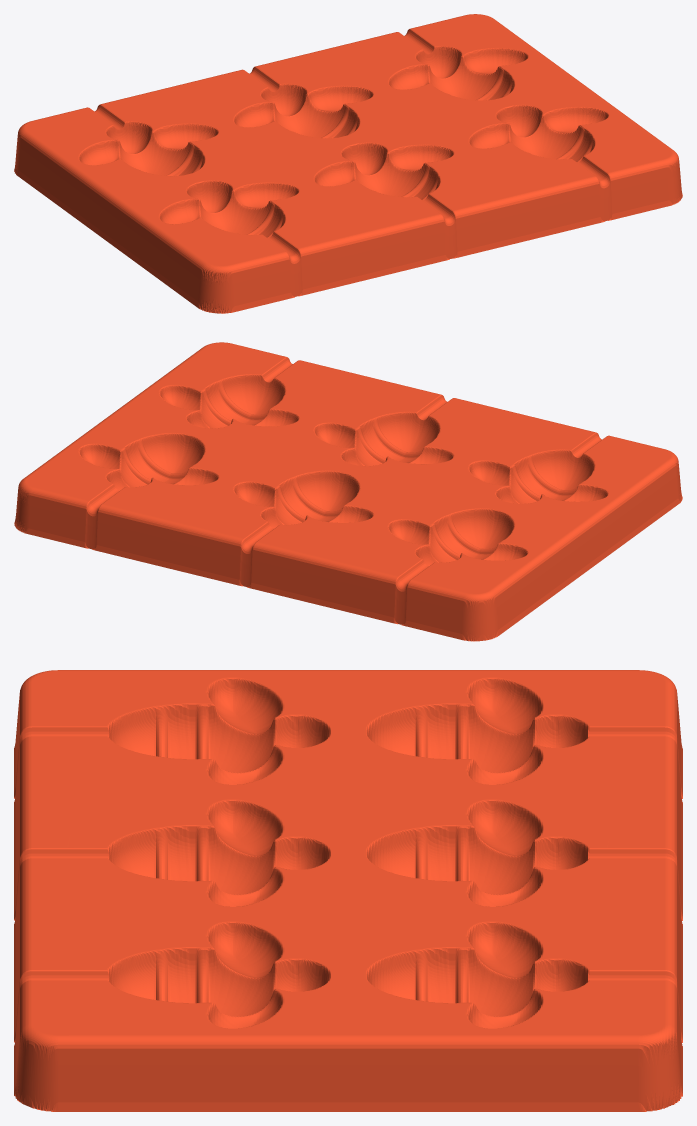
File: mold.glb
3 views of the same model, one above another, from view 1: azimuth 30°, elevation 25°; view 2: azimuth 150°, elevation 25°; view 3: azimuth 270°, elevation 25° (orthographic). The views are drawn at different scales.
Parts seen in each view (by area): view 1: geometry_0; view 2: geometry_0; view 3: geometry_0.
Boxes of the visible parts, x1,y1,x2,y2 form: geometry_0: (14, 14, 682, 313); geometry_0: (14, 342, 682, 641); geometry_0: (14, 670, 682, 1111).
Size of the model in its own units: 0.1824 by 0.0155 by 0.136.
